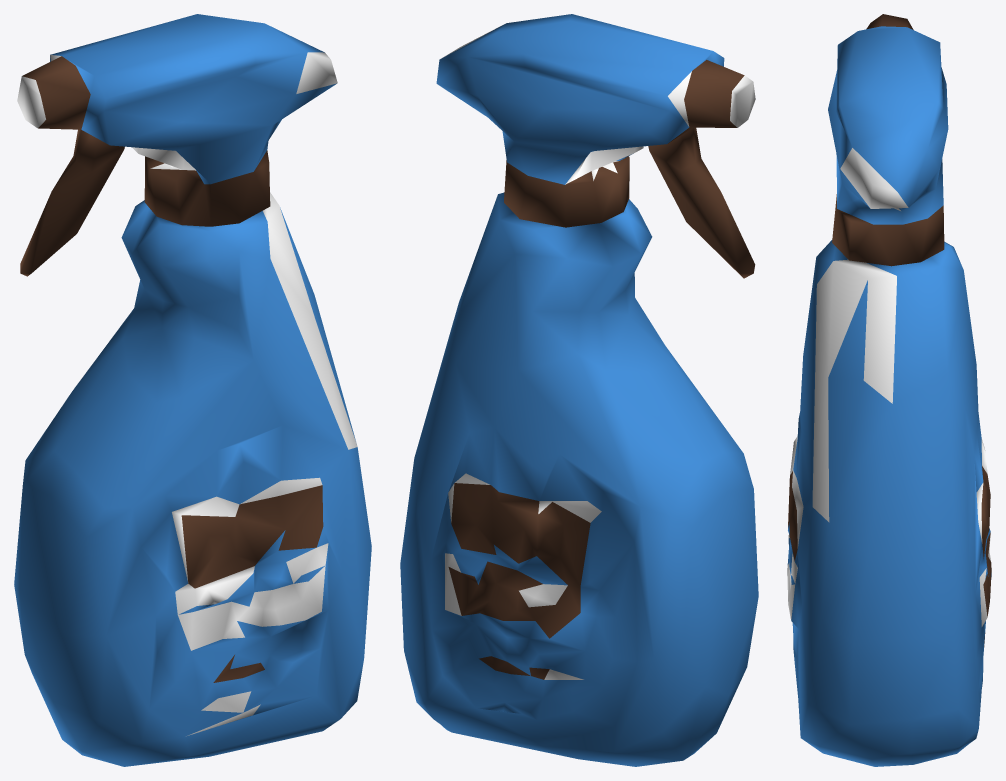
File: SM_prop_spray_blue.fbx
3 views of the same model, side by side, from view 1: azimuth 30°, elevation 25°; view 2: azimuth 150°, elevation 25°; view 3: azimuth 270°, elevation 25° (orthographic). The views are drawn at different scales.
Parts seen in each view (by area): view 1: SM_prop_spray_blue; view 2: SM_prop_spray_blue; view 3: SM_prop_spray_blue.
Boxes of the visible parts, x1,y1,x2,y2 form: SM_prop_spray_blue: (14,14,371,766); SM_prop_spray_blue: (400,14,758,766); SM_prop_spray_blue: (787,14,991,766).
Size of the model in its own units: 14.93 by 30 by 8.79.
Materials: 1 (1 with a texture image).
